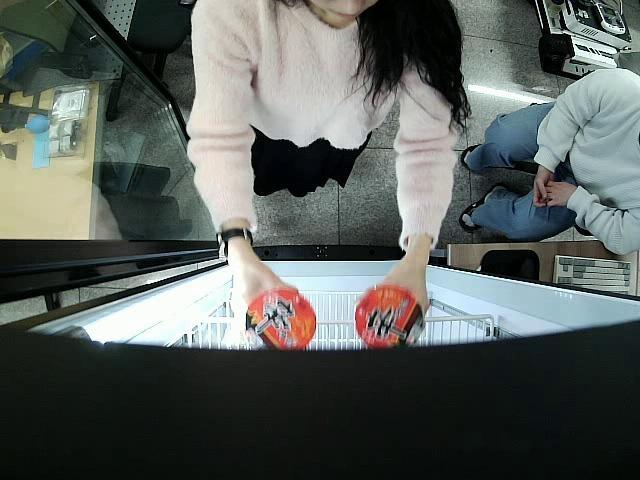02_shinRamen_S: (245, 287, 316, 350), (355, 286, 424, 348)
